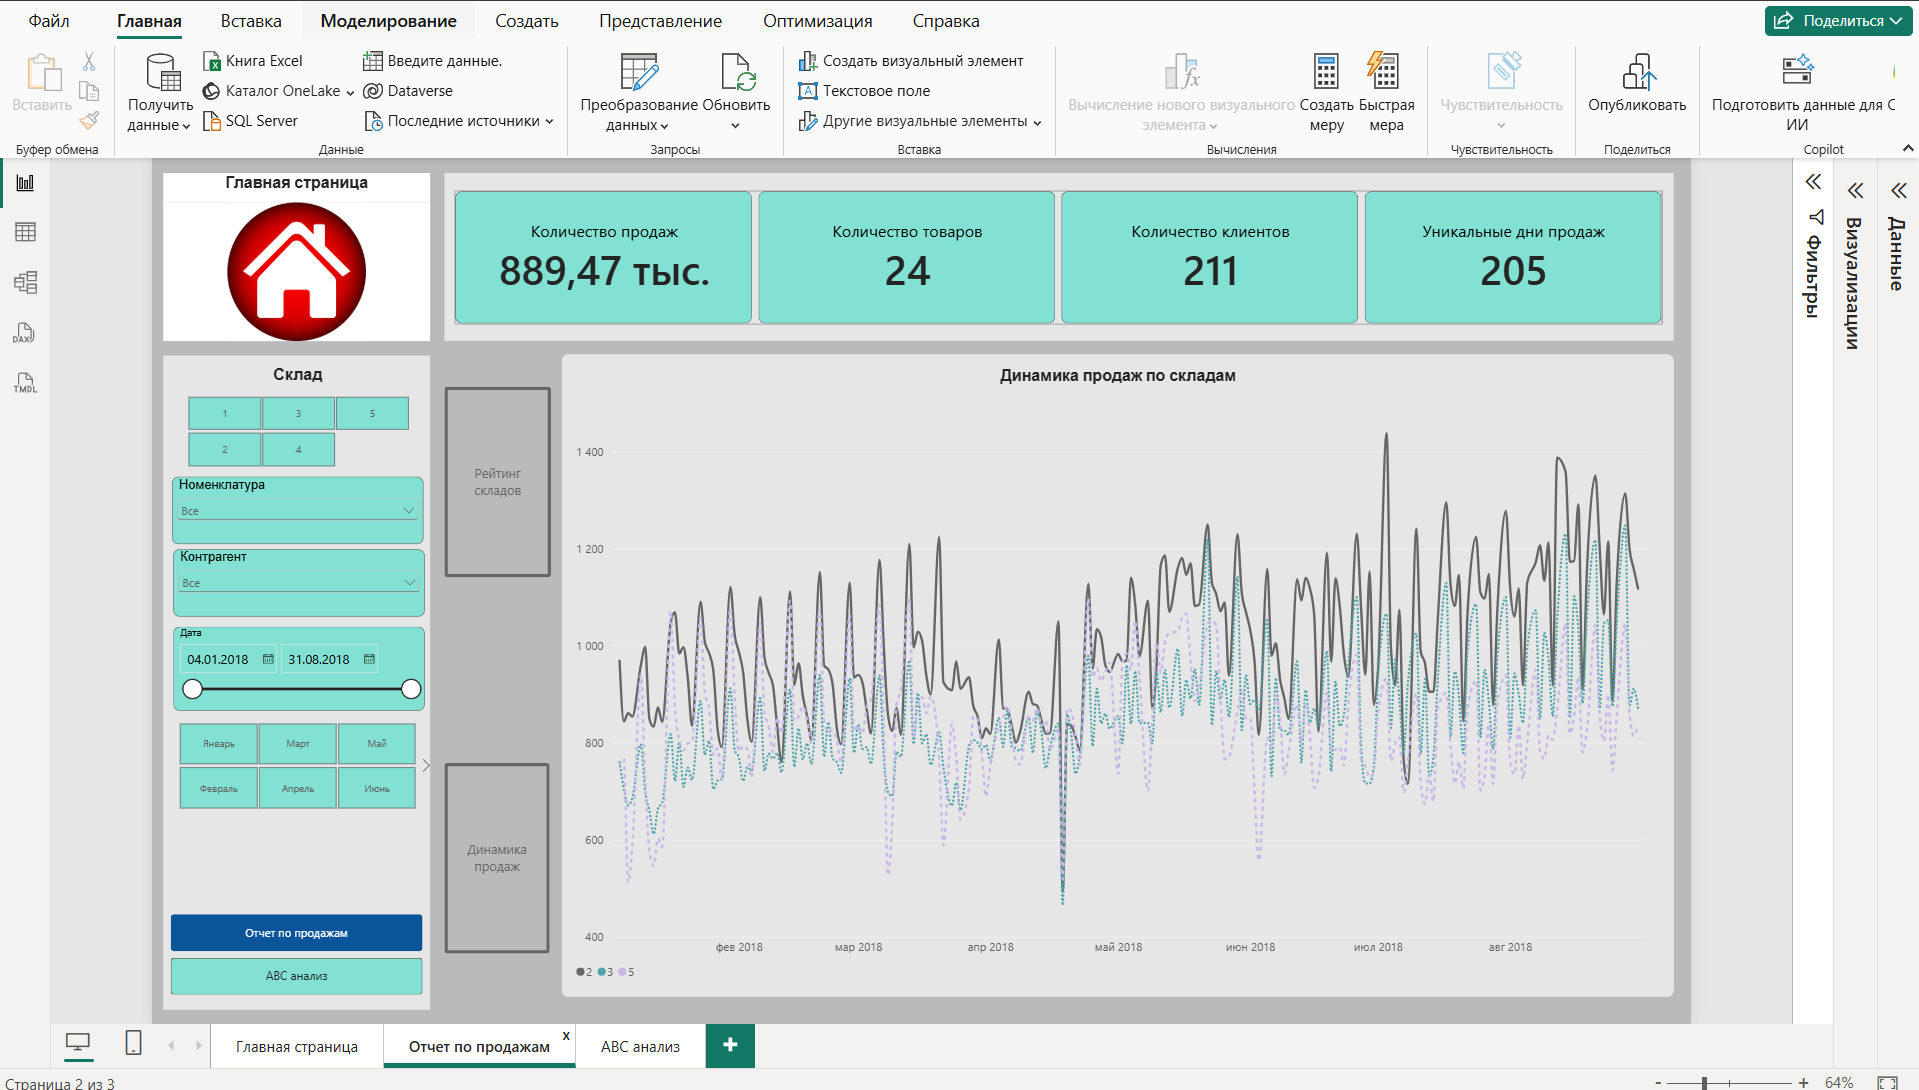

Layout of this report page (visuals, bound fields, positions):
{"tool":"powerbi","page":{"name":"Отчет по продажам","canvas":[1920,1080],"ordinal":1},"visuals":[{"type":"shape","box":[364.5,19.2,1533.1,209.3],"z":0},{"type":"shape","box":[14,245.9,333.1,816.3],"z":1000},{"type":"cardVisual","fields":{"Data":["Sum(data.Количество)","Count(data.Номенклатура)","Count(data.Контрагент)","Count(data.Дата)"]},"box":[376.7,40.1,1508.7,167.4],"z":2000},{"type":"image","title":"Главная страница","box":[14,19.2,333.1,209.3],"z":3000},{"type":"slicer","fields":{"Values":["data.Номенклатура"]},"box":[24.4,397.7,314,83.7],"z":4000},{"type":"slicer","fields":{"Values":["data.Контрагент"]},"box":[26.2,488.4,314,83.7],"z":5000},{"type":"slicer","fields":{"Values":["data.Дата"]},"box":[26.2,584.3,314,104.7],"z":6000},{"type":"slicer","fields":{"Values":["data.Дата.Изменение.Иерархия дат.Месяц"]},"box":[14,702.4,333.7,110.1],"z":7000},{"type":"pageNavigator","box":[22.7,943.6,314.5,101.3],"z":8000},{"type":"slicer","title":"Склад","fields":{"Values":["data.Склад"]},"box":[24.4,258.1,314,127.3],"z":9000},{"type":"tableEx","title":"Количество продаж и сделок по складам","fields":{"Values":["data.Склад","Sum(data.Количество)","CountNonNull(data.Количество)"]},"box":[511,244.2,1384.9,319.2],"z":10000},{"type":"clusteredBarChart","title":"Количество продаж по складам","fields":{"Category":["data.Склад"],"Y":["Sum(data.Количество)","CountNonNull(data.Количество)"]},"box":[511,580.8,1384.9,464],"z":11000},{"type":"actionButton","box":[365.2,284.8,132.8,237.6],"z":13000},{"type":"actionButton","box":[365.2,754.9,131.1,237.6],"z":14000}]}

Visuals, with their boxes on the page's 1920x1080 design canvas (x1, y1, x2, y2). These are canvas units, not pixel positions in the 1919x1090 screenshot, which may show the page scaled, cropped or inside an application window:
shape: BBox(364, 19, 1898, 228)
shape: BBox(14, 246, 347, 1062)
cardVisual - Sum(data.Количество) x Count(data.Номенклатура): BBox(377, 40, 1885, 208)
"Главная страница" image: BBox(14, 19, 347, 228)
slicer - data.Номенклатура: BBox(24, 398, 338, 481)
slicer - data.Контрагент: BBox(26, 488, 340, 572)
slicer - data.Дата: BBox(26, 584, 340, 689)
slicer - data.Дата.Изменение.Иерархия дат.Месяц: BBox(14, 702, 348, 812)
pageNavigator: BBox(23, 944, 337, 1045)
"Склад" slicer: BBox(24, 258, 338, 385)
"Количество продаж и сделок по складам" tableEx: BBox(511, 244, 1896, 563)
"Количество продаж по складам" clusteredBarChart: BBox(511, 581, 1896, 1045)
actionButton: BBox(365, 285, 498, 522)
actionButton: BBox(365, 755, 496, 992)
